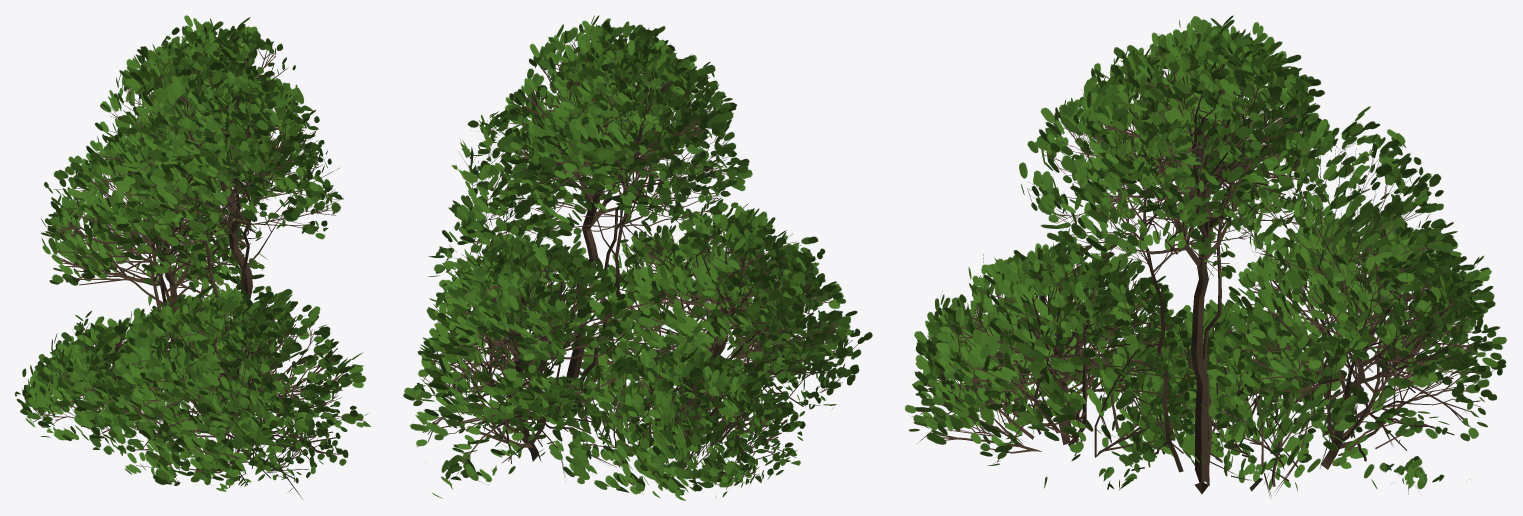
3 renders of one model, left to right at view 1: azimuth 30°, elevation 25°; view 2: azimuth 150°, elevation 25°; view 3: azimuth 270°, elevation 25°, orthographic. The views are drawn at different scales.
Visible parts, largest first — view 1: oak 01.001_trunk_Mat.001_0.423; view 2: oak 01.001_trunk_Mat.001_0.423; view 3: oak 01.001_trunk_Mat.001_0.423.
Boxes of the visible parts, x1,y1,x2,y2 form: oak 01.001_trunk_Mat.001_0.423: (15,15,370,498); oak 01.001_trunk_Mat.001_0.423: (403,15,872,500); oak 01.001_trunk_Mat.001_0.423: (905,15,1506,497).
Size of the model in its own units: 3.64 by 4.94 by 6.04.
2 materials, 1 textured.
